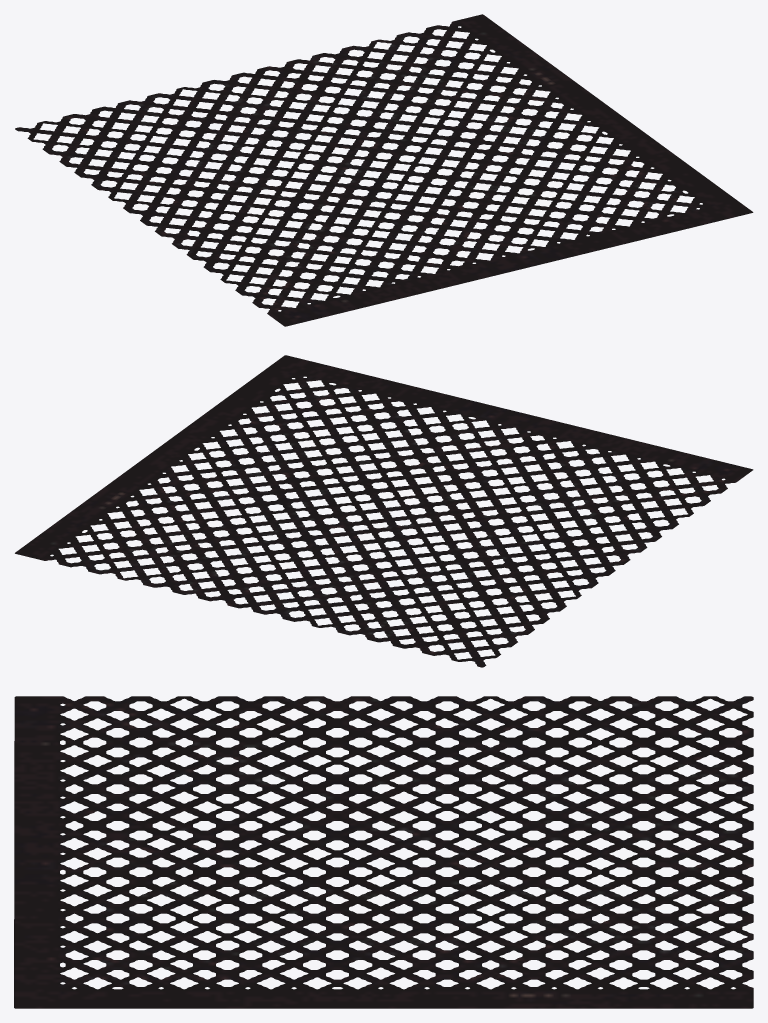
The model's file is SM_EC_ChainFence_Part_01.fbx.
The picture shows the model from 3 angles, top to bottom: view 1: azimuth 30°, elevation 25°; view 2: azimuth 150°, elevation 25°; view 3: azimuth 270°, elevation 25°; orthographic projection. The views are drawn at different scales.
Visible parts, largest first — view 1: SM_EC_ChainFence_Part_01; view 2: SM_EC_ChainFence_Part_01; view 3: SM_EC_ChainFence_Part_01.
Part boxes in pixels (x1,y1,x2,y2): SM_EC_ChainFence_Part_01: [15, 14, 753, 326]; SM_EC_ChainFence_Part_01: [15, 355, 753, 667]; SM_EC_ChainFence_Part_01: [14, 696, 753, 1008].
Bounding box in the file's own units: 2 × 2 × 0.
